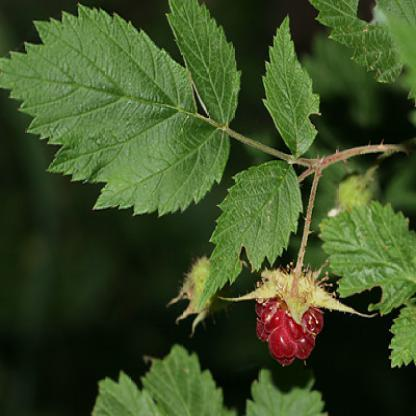Raspberry leaf: (1, 1, 242, 212), (188, 150, 307, 313), (258, 13, 321, 160)
